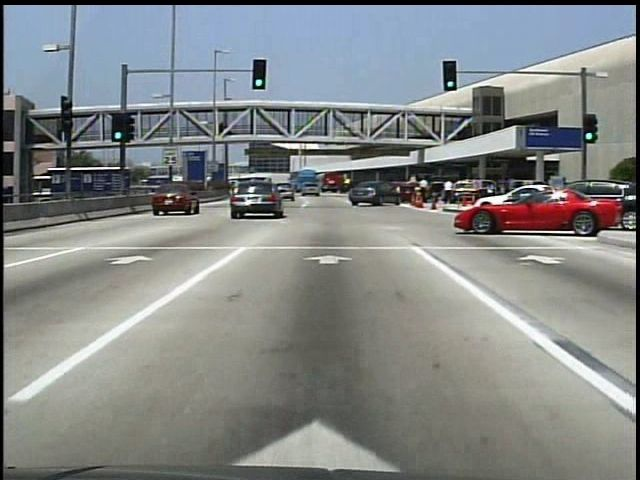person: (416, 174, 432, 209), (483, 181, 499, 215), (441, 177, 457, 205), (219, 122, 228, 139)
